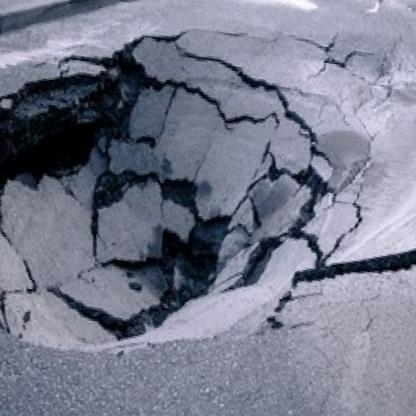pothole: (0, 0, 407, 395)
